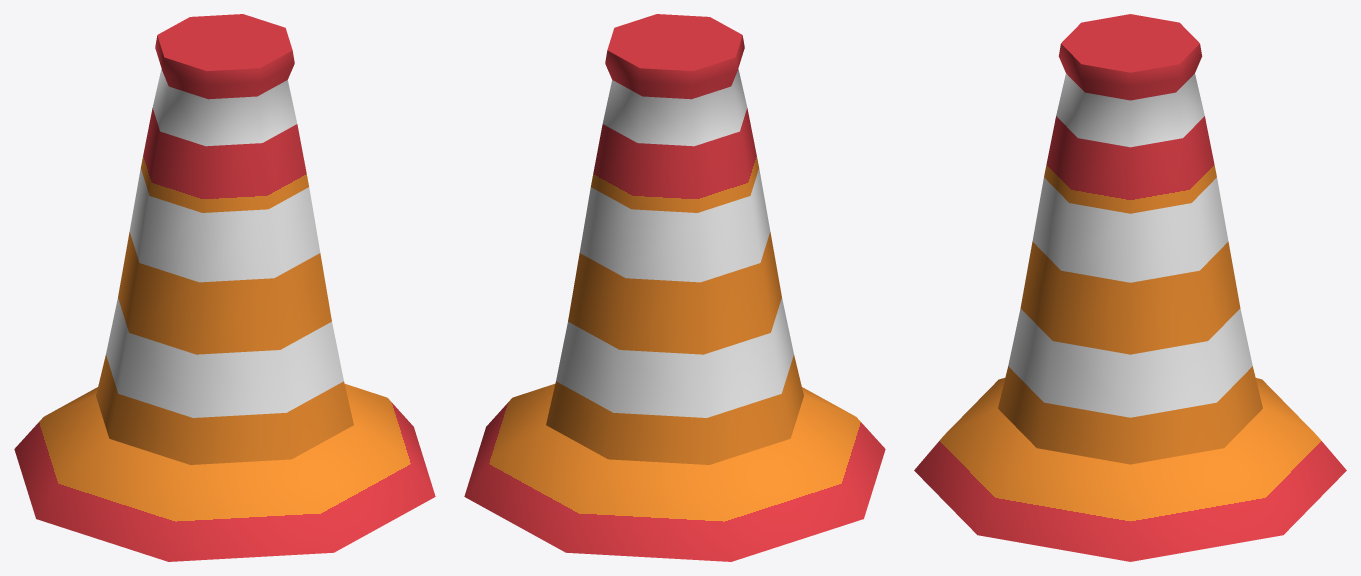
The model's file is Cono_01.fbx.
3 renders of one model, left to right at view 1: azimuth 30°, elevation 25°; view 2: azimuth 150°, elevation 25°; view 3: azimuth 270°, elevation 25°, orthographic.
Visible parts, largest first — view 1: Cono_01; view 2: Cono_01; view 3: Cono_01.
Boxes of the visible parts, left/top/right/bottom form: Cono_01: left=14, top=14, right=435, bottom=561; Cono_01: left=464, top=14, right=885, bottom=561; Cono_01: left=914, top=14, right=1346, bottom=561.
Bounding box in the file's own units: 140 × 152 × 140.
